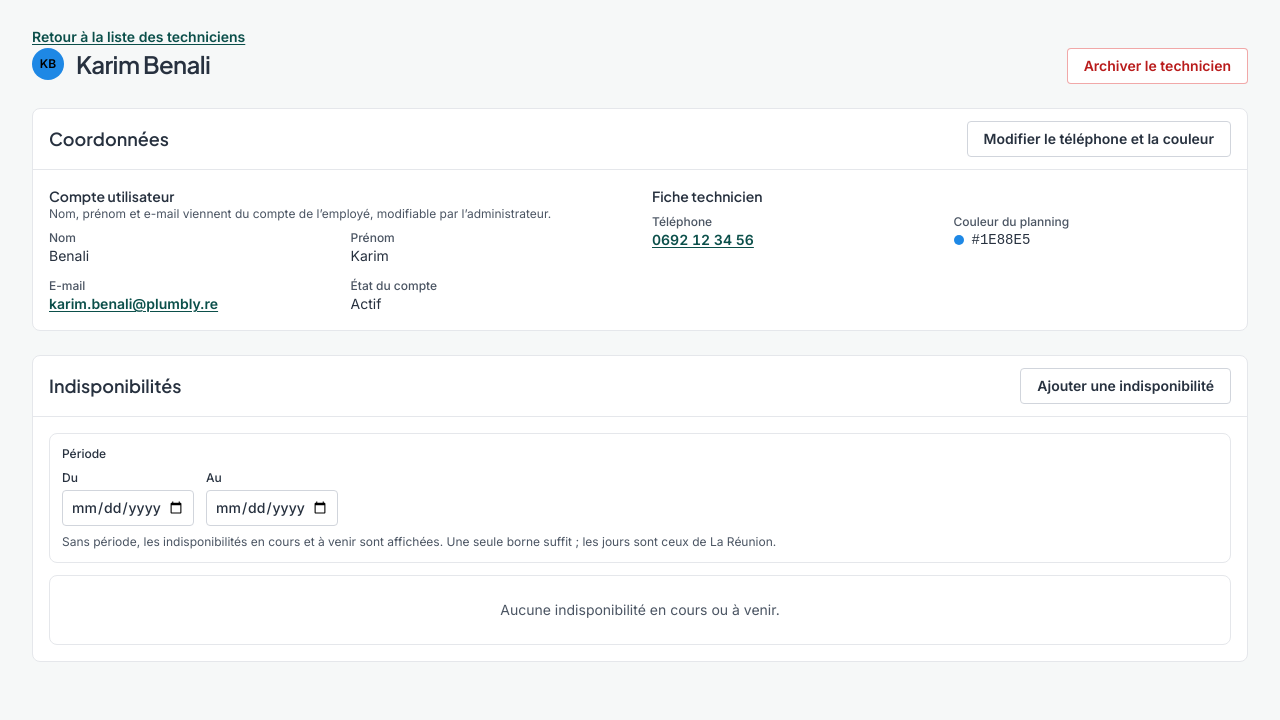
Test: modification du téléphone et de la couleur (US11) › US11 : la fenêtre ne propose que le téléphone et la couleur ; seul le téléphone changé part, puis la fiche est relue
Expected: the heading "Karim Benali" is shown, [76,48,210,80]
Click the button "Modifier le téléphone et la couleur" at (1099, 139), box [967,121,1231,157]
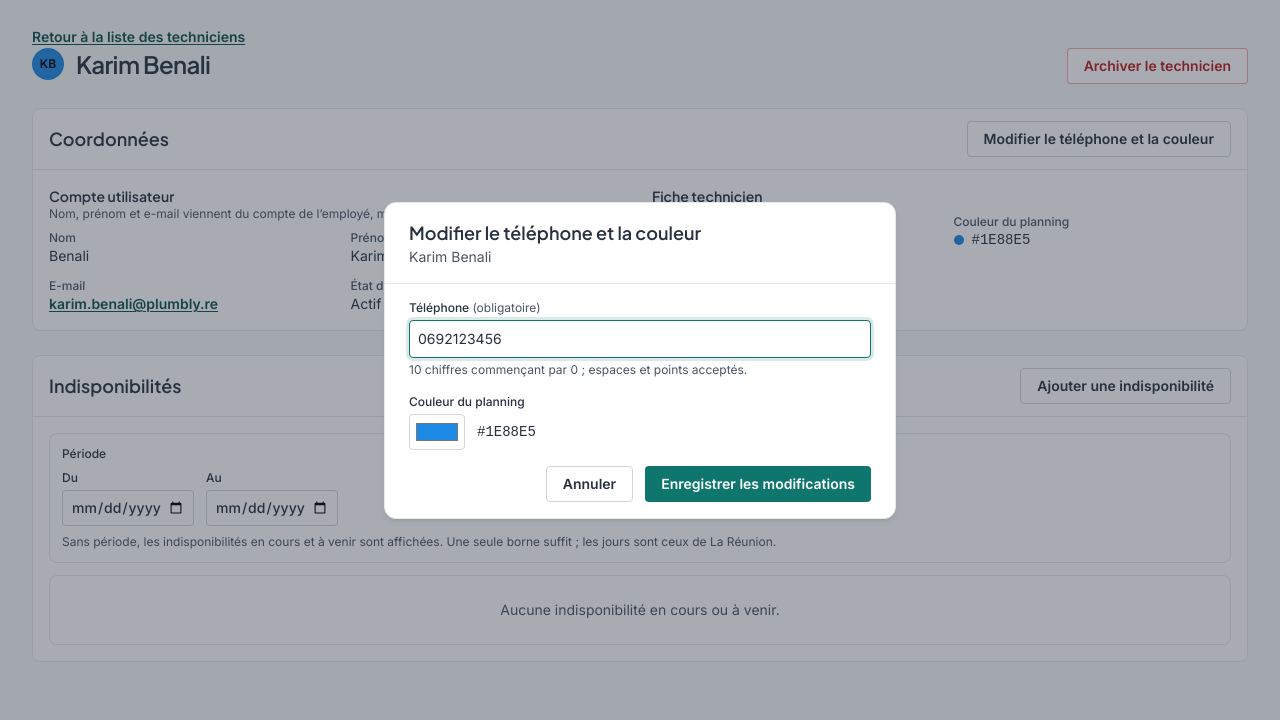
Result: the field labelled "Téléphone (obligatoire)" holds "0692123456"
Result: the colour field labelled "Couleur du planning" holds "#1e88e5" at [409,414,465,450]
Replace the text in the field labelled "Téléphone (obligatoire)" with "0693 99 88 77" at (640, 338), box [409,320,871,358]
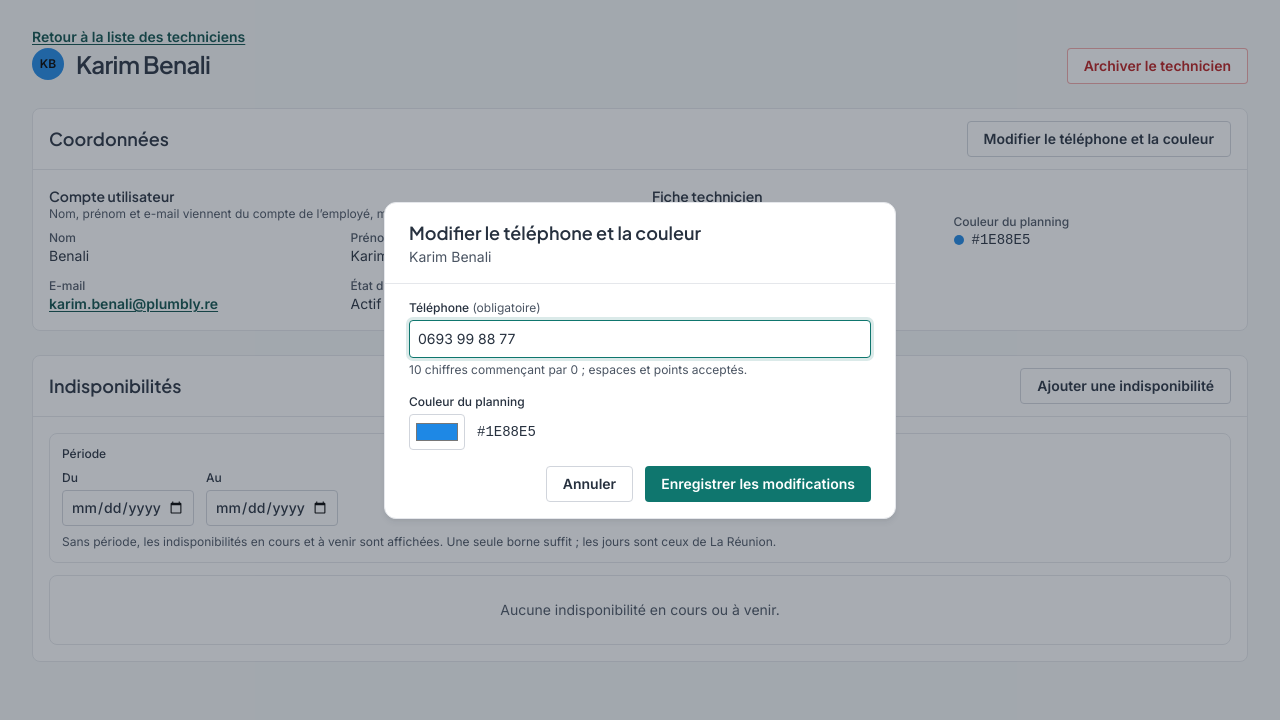
Click the button "Enregistrer les modifications" at (758, 484), box [645,466,871,502]
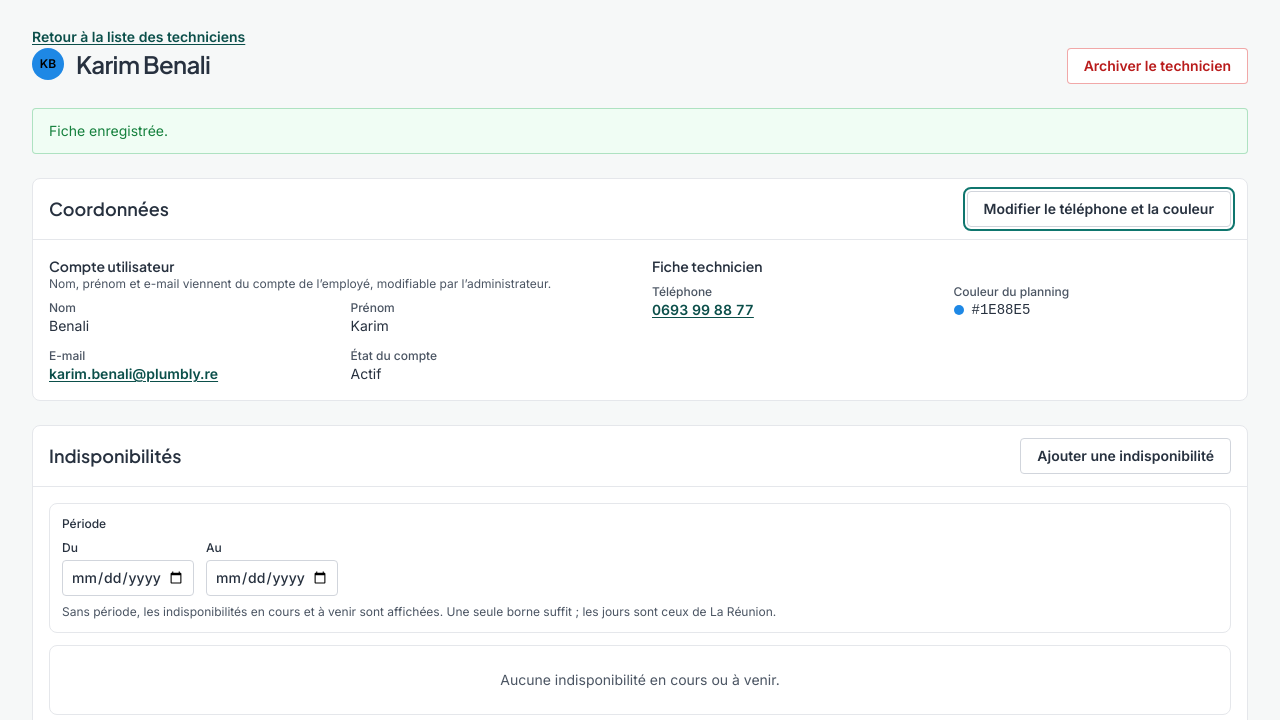
Result: the dialog is gone
Result: the link "0693 99 88 77" is shown at [652,301,754,318]
Result: the message named "Confirmation" reads "Fiche enregistrée." at [49,122,168,139]
